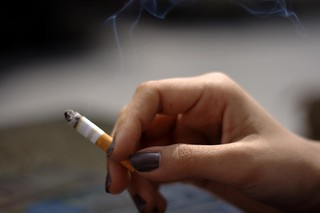cigarette: (62, 107, 138, 174)
